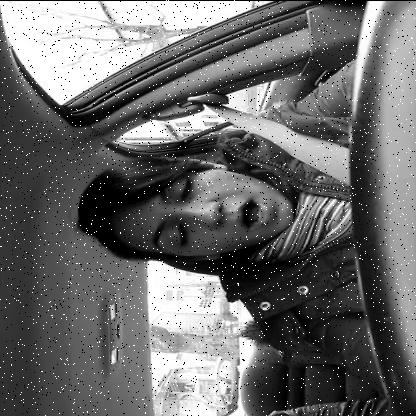seatbelt: (39, 98, 358, 294)
